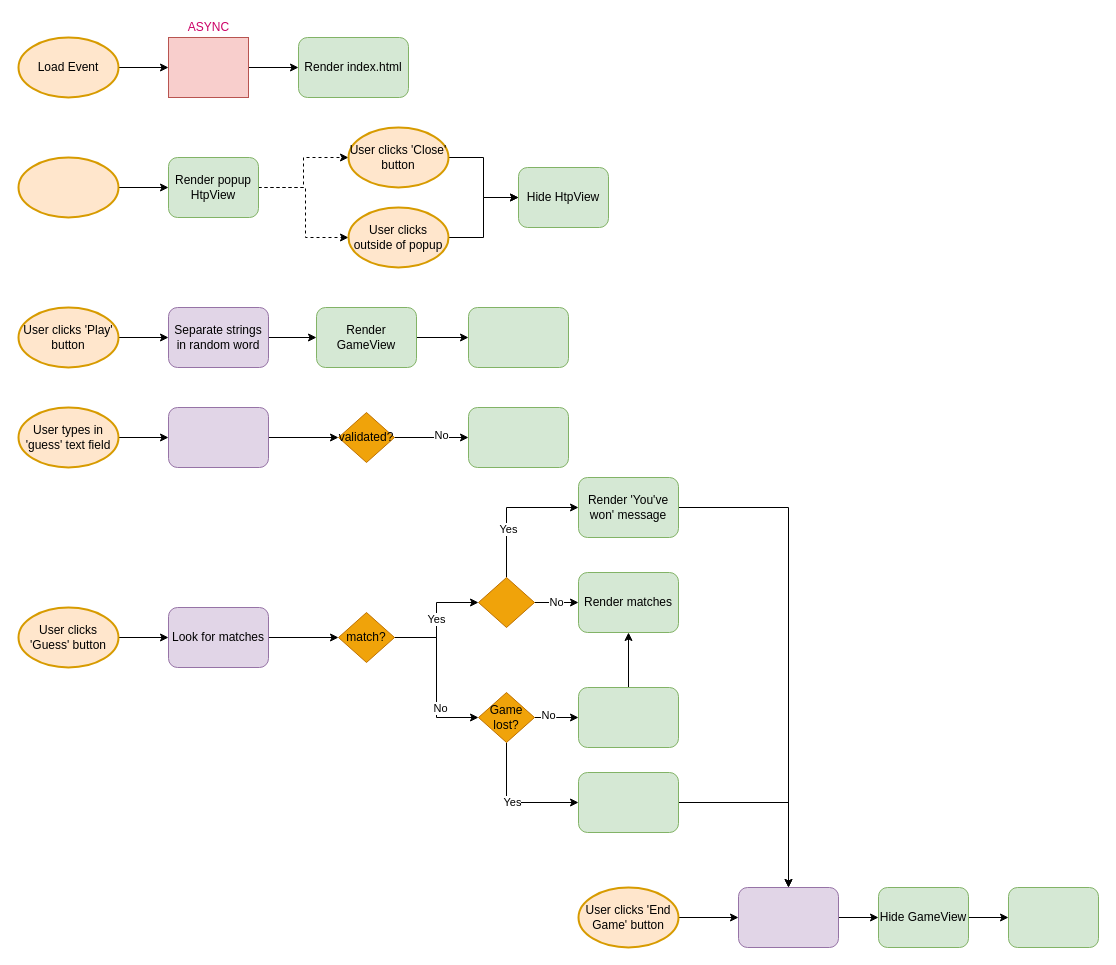
This 1116x965 diagram has some shape labels left out. Here are the shapes that lost their labels. From the top down, the centre of each, then its label:
At (208,67): "Load words library".
At (68,187): "User clicks 'How to play' button".
At (518,337): "Render GuessView".
At (218,437): "Validate user input".
At (518,437): "Render errors in GuessView".
At (506,602): "Game won?".
At (628,717): "Render HangMan img".
At (628,802): "Render 'You've lost' message".
At (788,917): "Reset variables".
At (1053,917): "Hide GuessView".
